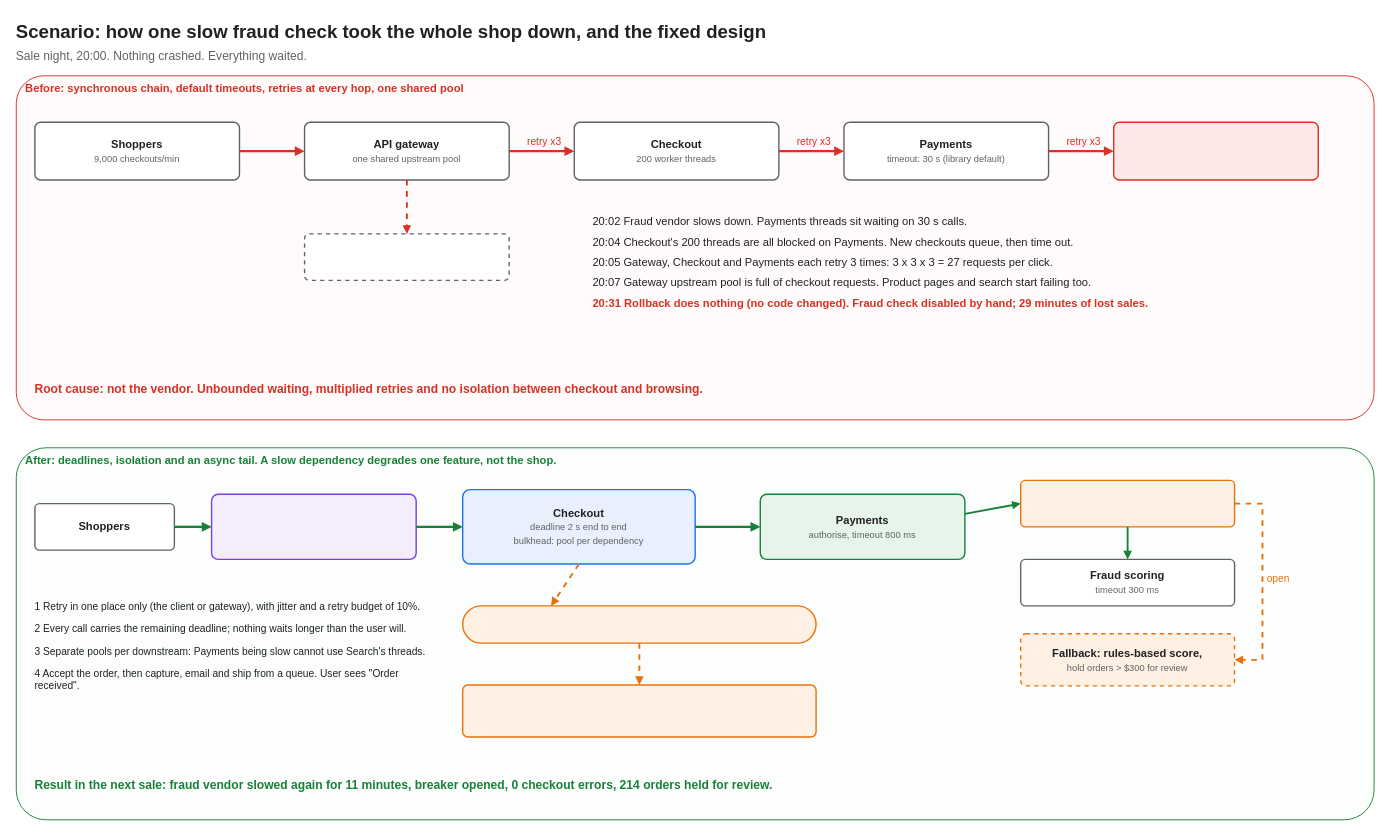
Image size: 1390x836. Some labels were removed from this diagram. The shapes that lost their labels are listed below. From the top down, each one's box as (x1, y1, x2, y2) in pixels, then its label:
(1113, 121, 1319, 180): Fraud scoring vendor API, p99 0.4 s → 28 s
(303, 233, 509, 281): Product pages, search, cart share the gateway pool
(1020, 479, 1235, 527): Circuit breaker opens at 20% errors / slow calls
(210, 493, 416, 560): API gateway per-route pools + load shedding
(462, 605, 816, 643): order-placed queue (outbox)
(462, 684, 816, 737): Capture + emails + fulfilment workers retry with backoff, idempotency keys
